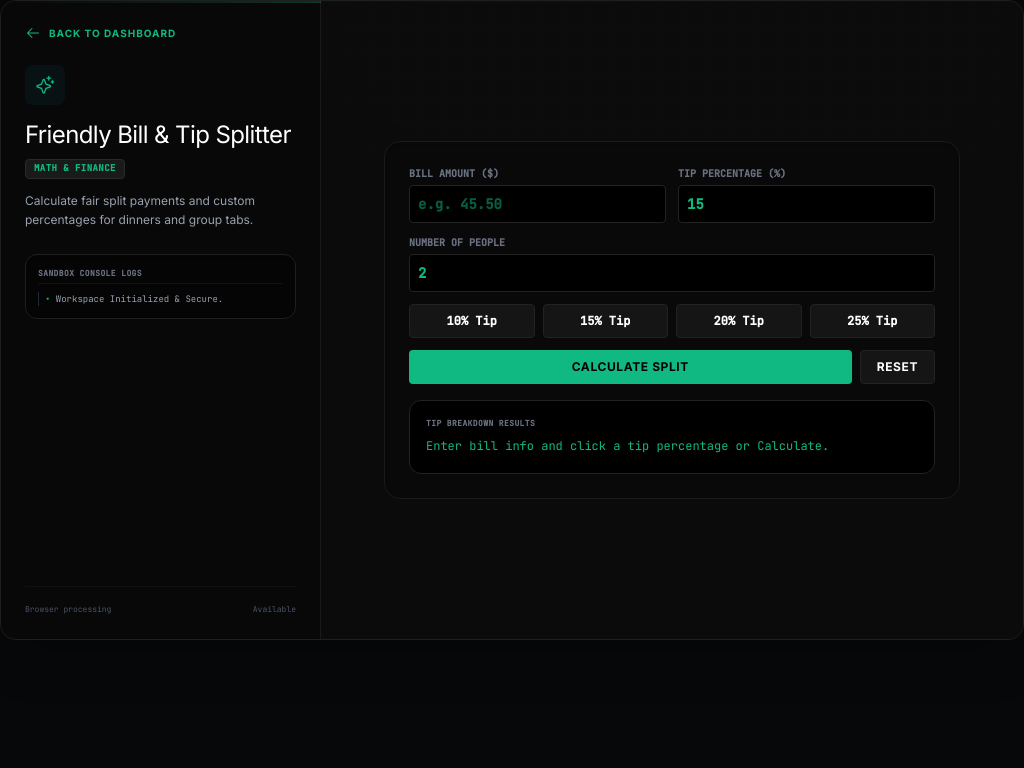
Scenario: P1-B3 tip calculator workspace (GenericUtilityWorkspace) › tip-calc reset clears inputs and results
Type "100" into the number field labelled "Bill Amount ($)" at (538, 204), box [409,185,666,223]
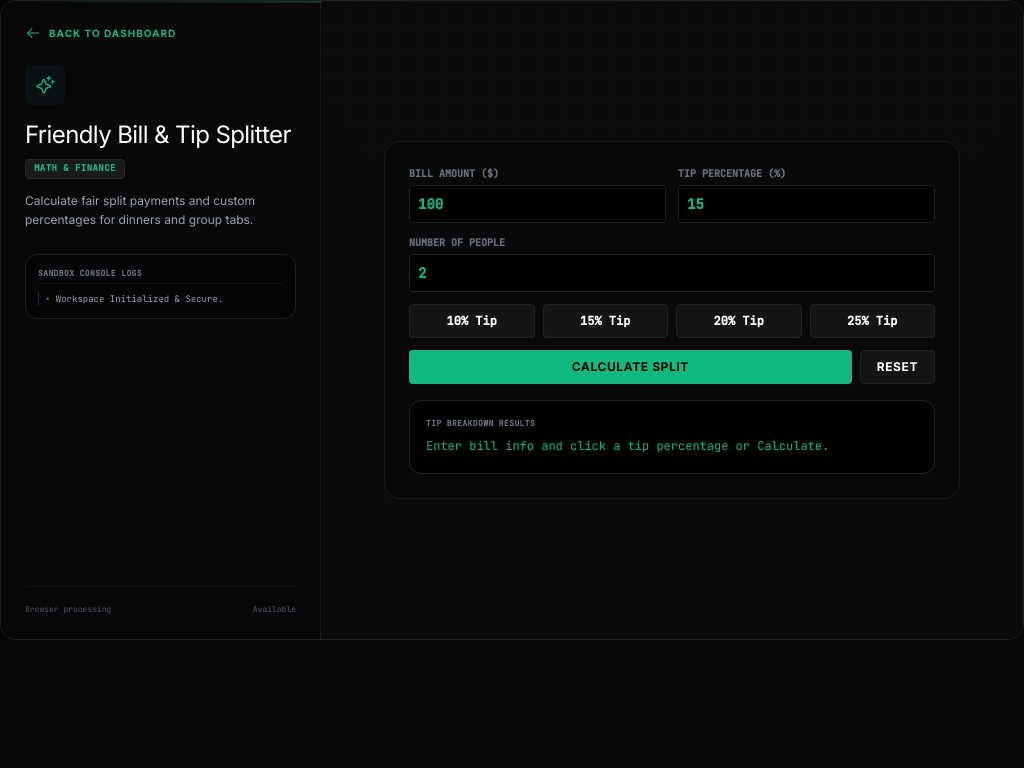
Click the button "15% Tip" at (605, 321), box [542,304,668,338]
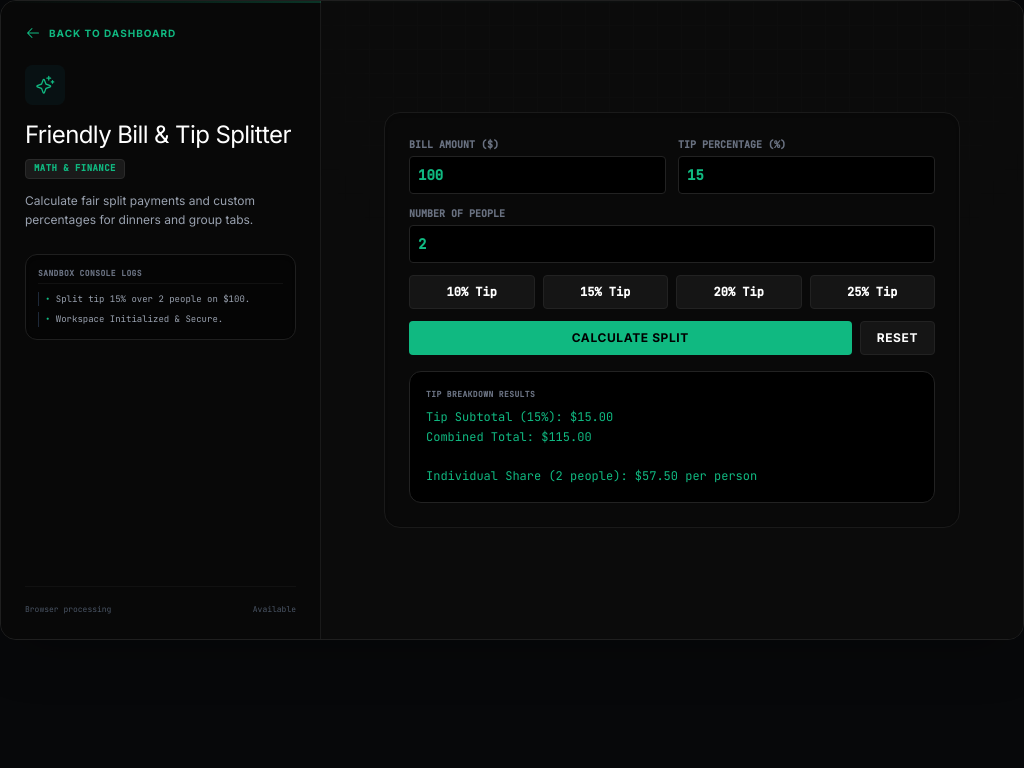
Now the text "Tip Subtotal (15%):" is shown, box [426,409,757,484]
Click the button "Reset" at (897, 338), box [860,321,935,355]
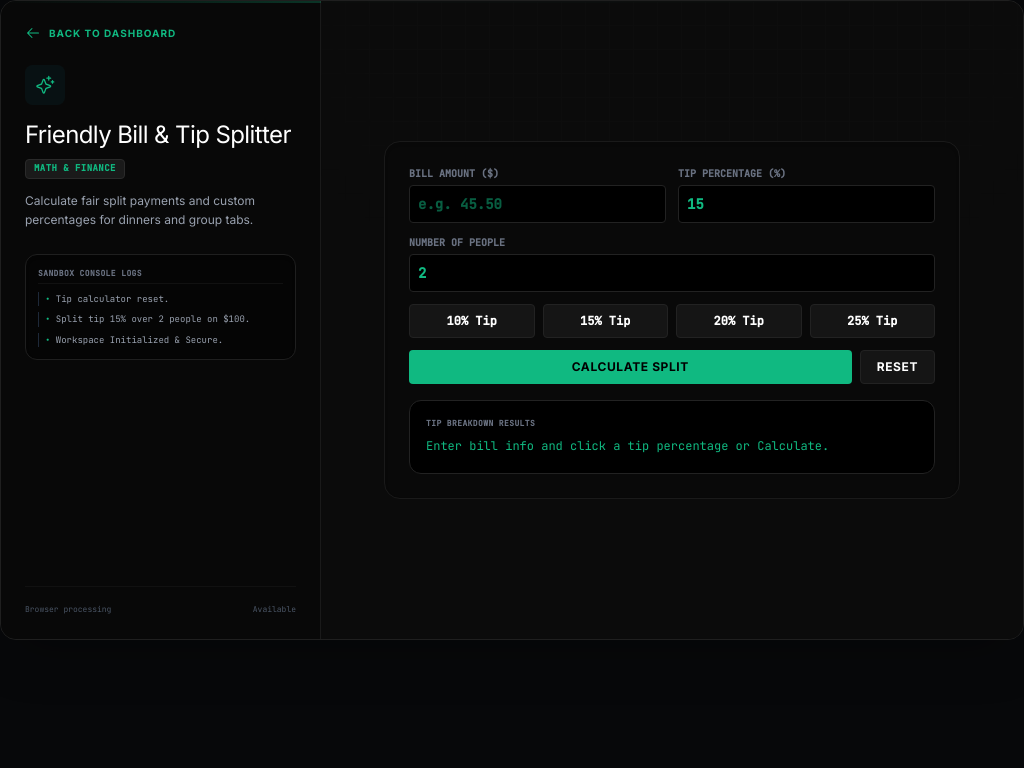
Now the text "Tip Subtotal (15%):" is gone
Now the number field labelled "Bill Amount ($)" is not empty, box [409,185,666,223]
